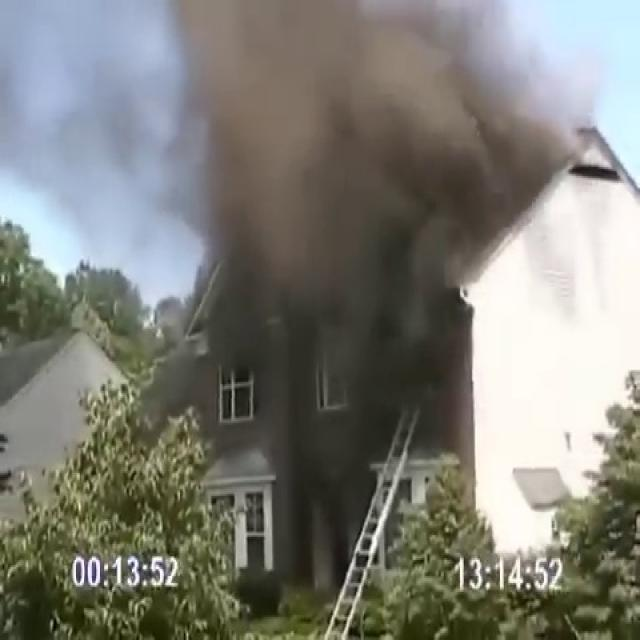Smoke: (126, 0, 576, 432)
